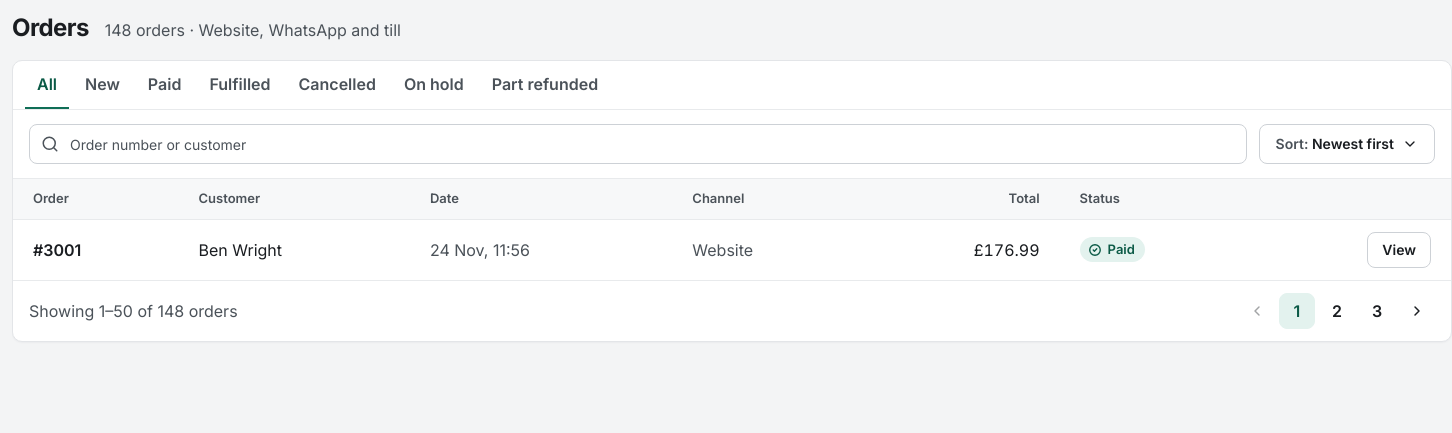
Test case: List changes while browsing › says the list has changed when the total moves between pages, and refreshes from page 1
Expected: the table is shown, [13,179,1451,280]
Expected: the text "The order list has changed since you opened it." is not shown
Click the button named "Next page" at x=1417, y=310, box [1399,292,1435,328]
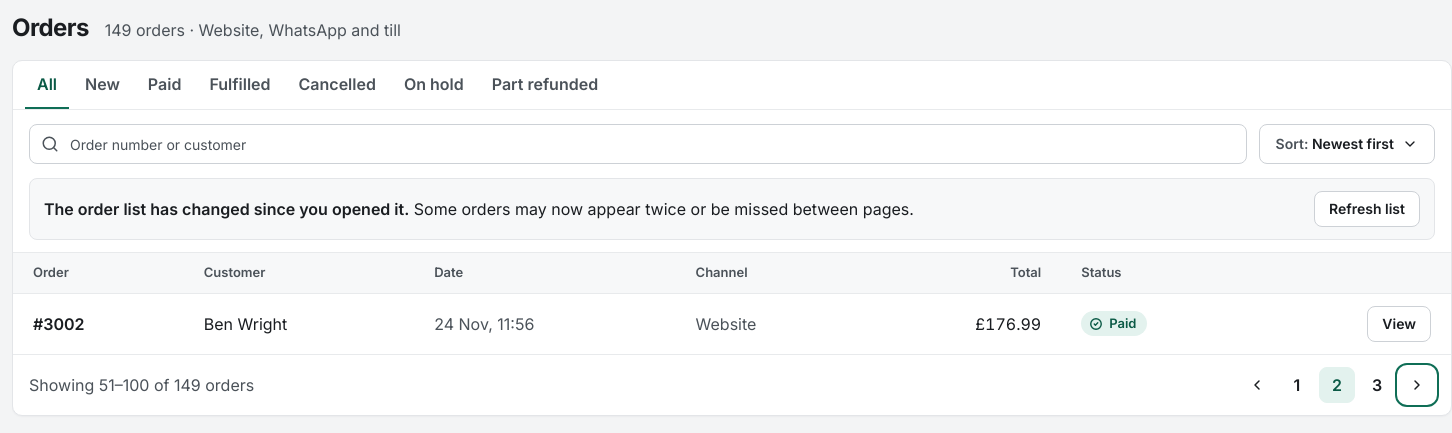
Result: the text "The order list has changed since you opened it." shows "Some orders may now appear twice or be missed between pages." at [409,199,914,219]
Click the button "Refresh list" at x=1367, y=209, box [1314,191,1420,227]
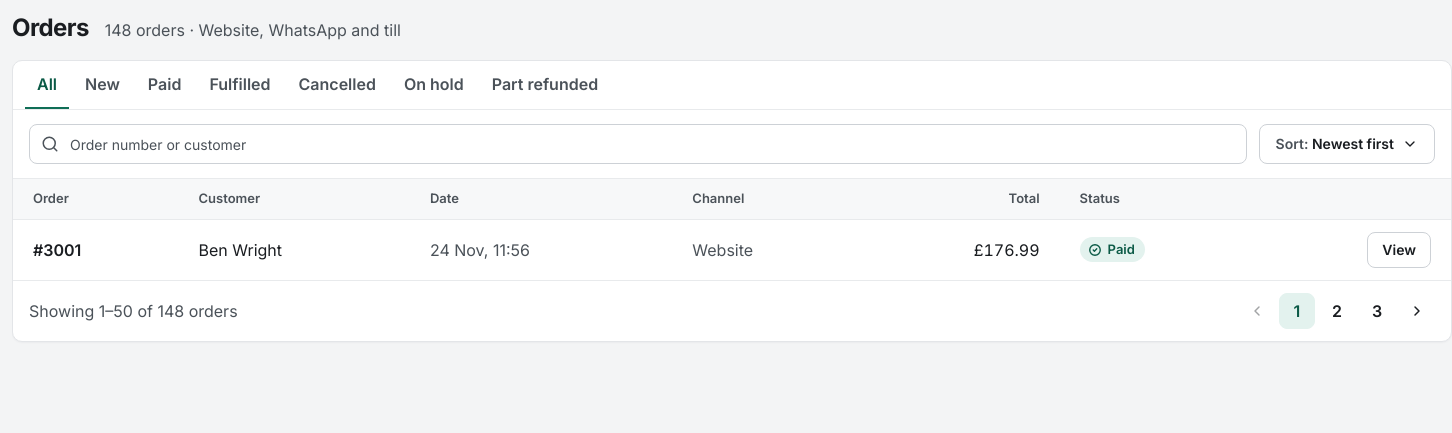
Result: the text "The order list has changed since you opened it." is gone
